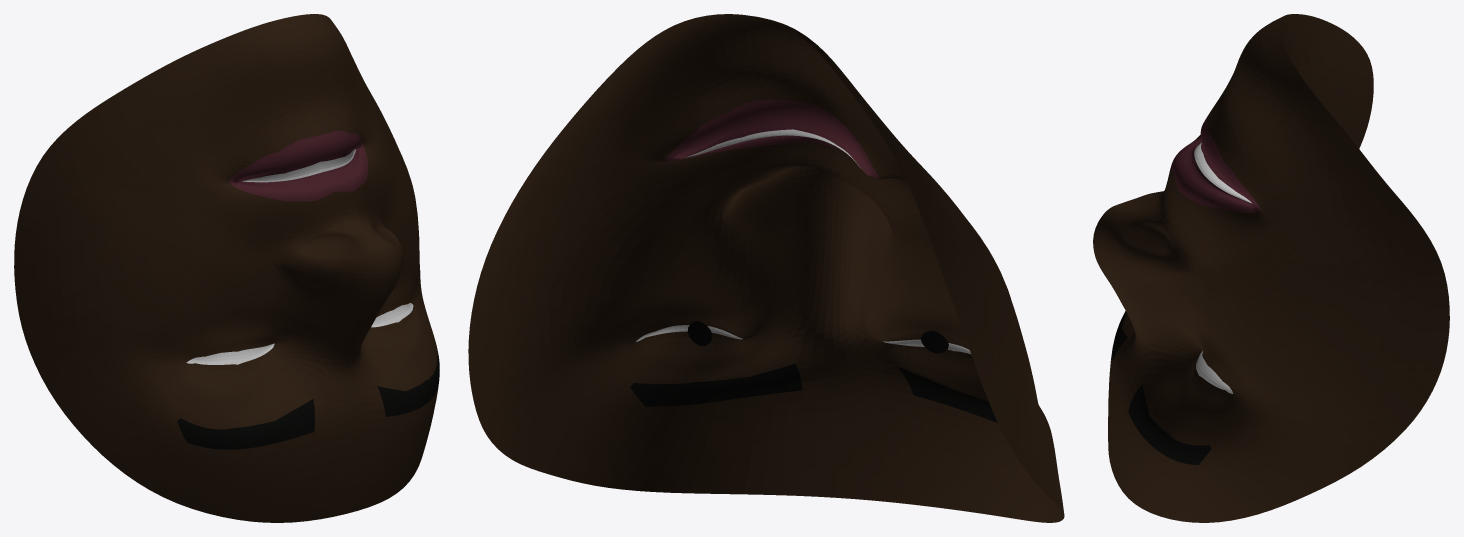
File: frame_00225.obj
3 views of the same model, side by side, from view 1: azimuth 30°, elevation 25°; view 2: azimuth 150°, elevation 25°; view 3: azimuth 270°, elevation 25° (orthographic). The views are drawn at different scales.
Parts seen in each view (by area): view 1: face_mesh_subdivided; view 2: face_mesh_subdivided; view 3: face_mesh_subdivided.
Part boxes in pixels (x1,y1,x2,y2): face_mesh_subdivided: (14,14,439,522); face_mesh_subdivided: (468,14,1064,522); face_mesh_subdivided: (1093,14,1449,522).
Bounding box in the file's own units: 0.5018 × 0.5455 × 0.3932.
